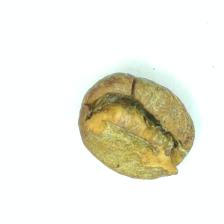NG: (87, 92, 180, 175)
